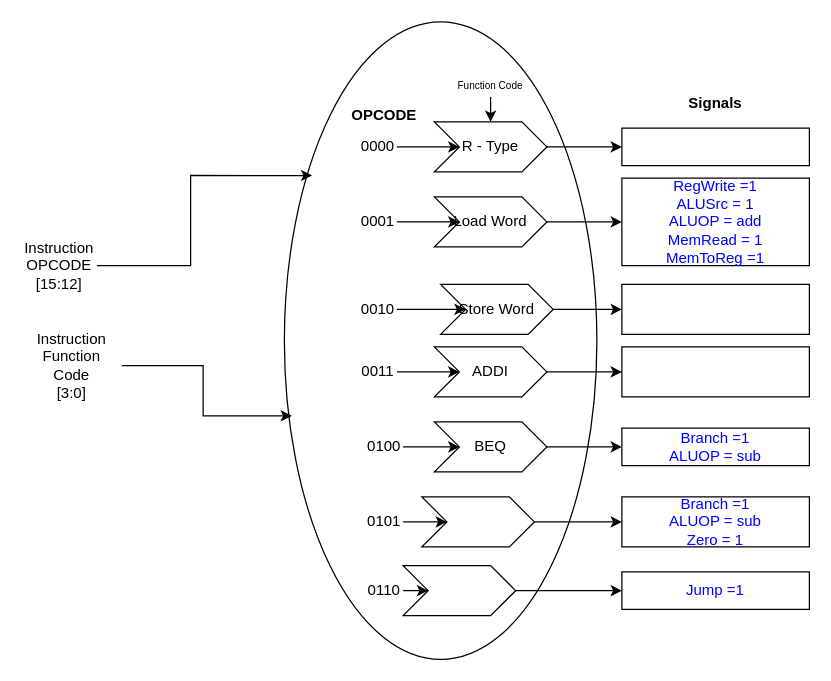
Some shapes in this 831 by 681 pixel diagram are drawn without their labels. The shapes that lost their labels are listed below. From the top down, each one's box as (x1, y1, x2, y2) in pixels, then its label:
(621, 127, 809, 166): RegWrite =1 ALUOP = add,sub,sll,and
(621, 283, 809, 334): ALUSrc =1 ALUOP = add MemWrite = 1
(621, 346, 809, 397): ALUSrc =1 ALUOP = add RegWrite = 1
(421, 496, 534, 547): BNE
(402, 564, 516, 616): JMP
